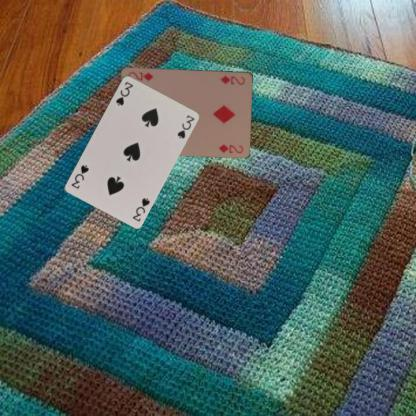2d: (218, 73, 246, 86)
3s: (113, 78, 134, 107), (130, 195, 152, 222)
